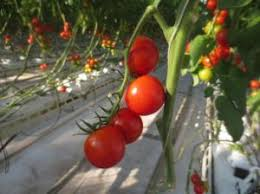tomato: (124, 75, 166, 117), (121, 36, 160, 79), (83, 130, 125, 168), (107, 107, 143, 145)
